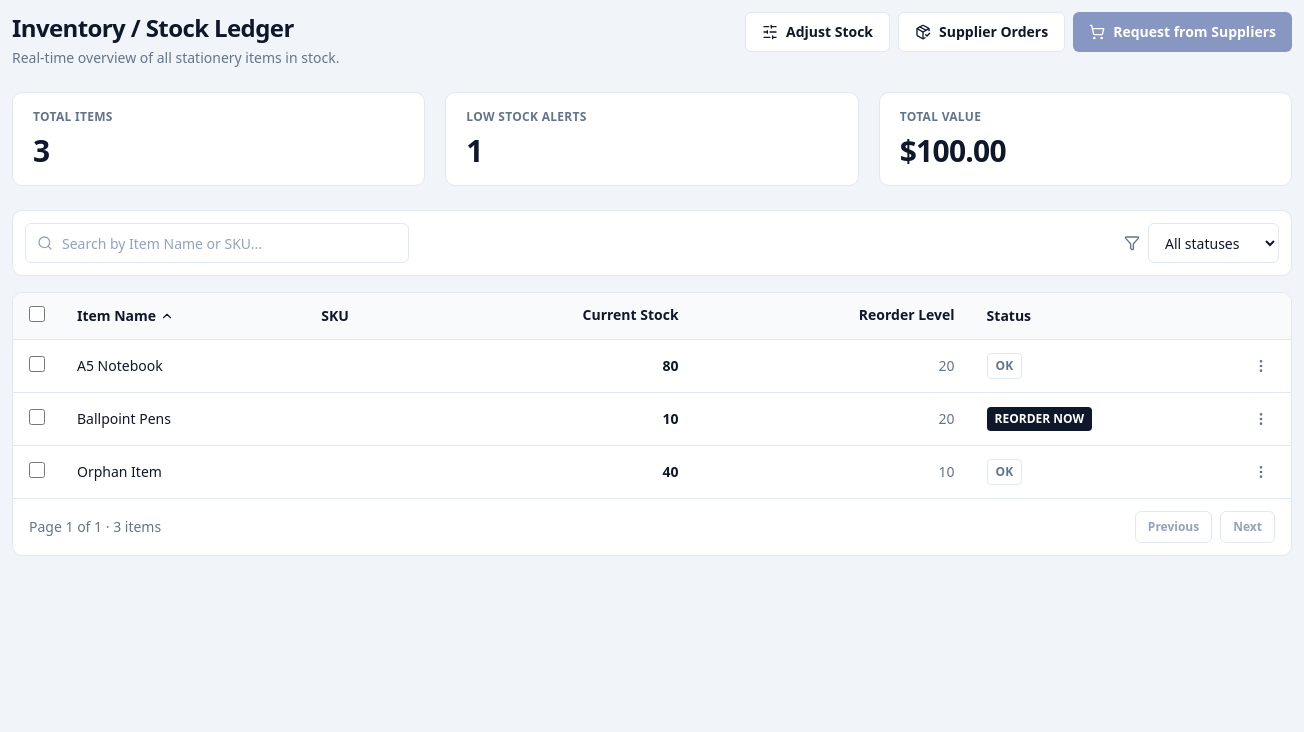
Scenario: Inventory supplier-request cart › disables the request button until items are selected
The width and height of the screenshot is (1304, 732).
Expected: the text "Ballpoint Pens" is shown, [61,392,305,446]
Expected: the button "Request from Suppliers" is disabled, [1073,12,1292,52]
Click the checkbox named "Select Ballpoint Pens" at point(37, 416), box [29,408,45,424]
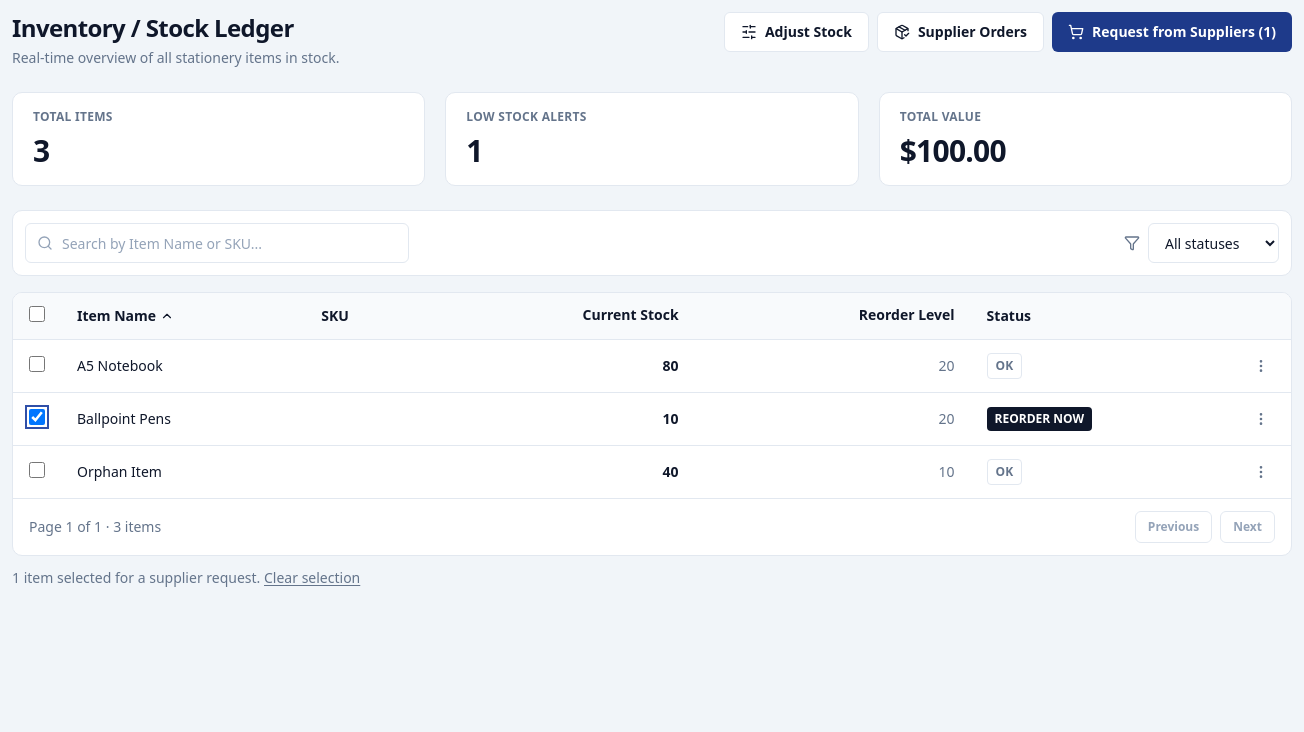
Result: the button "Request from Suppliers (1)" is enabled at [1052,12,1292,52]
